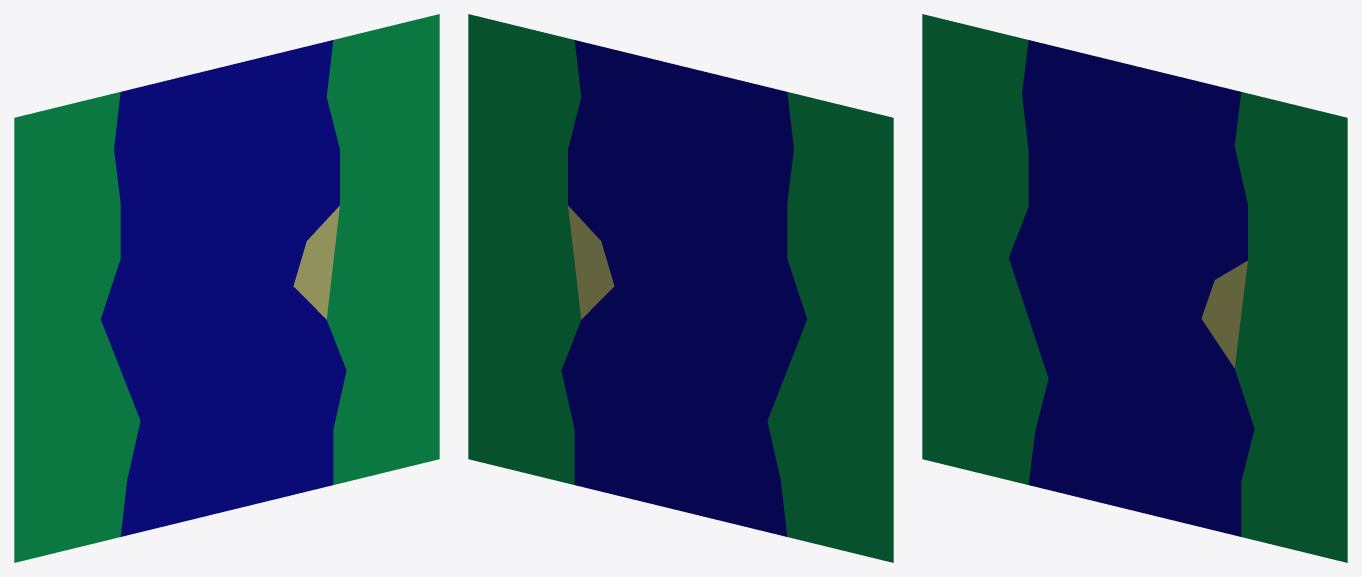
The model's file is tiles3_14.obj.
The picture shows the model from 3 angles, left to right: view 1: azimuth 30°, elevation 25°; view 2: azimuth 150°, elevation 25°; view 3: azimuth 330°, elevation 25°; orthographic projection.
Bounding box in the file's own units: 40.96 × 40.96 × 0.
